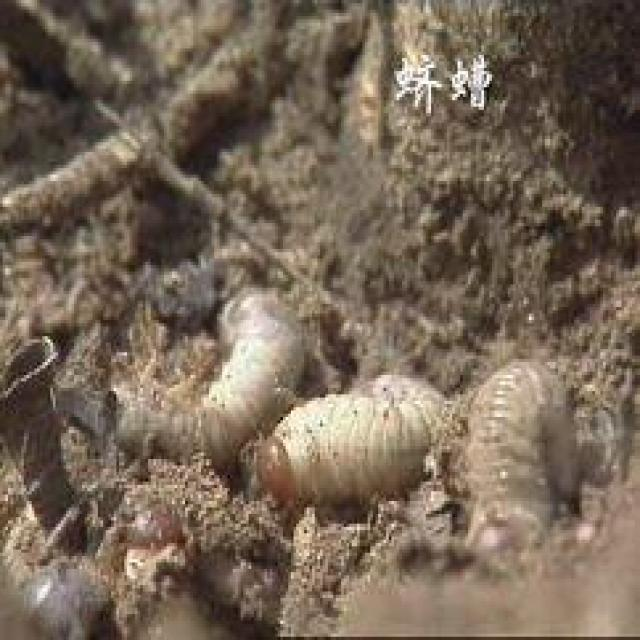Grub-Adult-: (110, 280, 306, 462), (254, 366, 465, 509)
